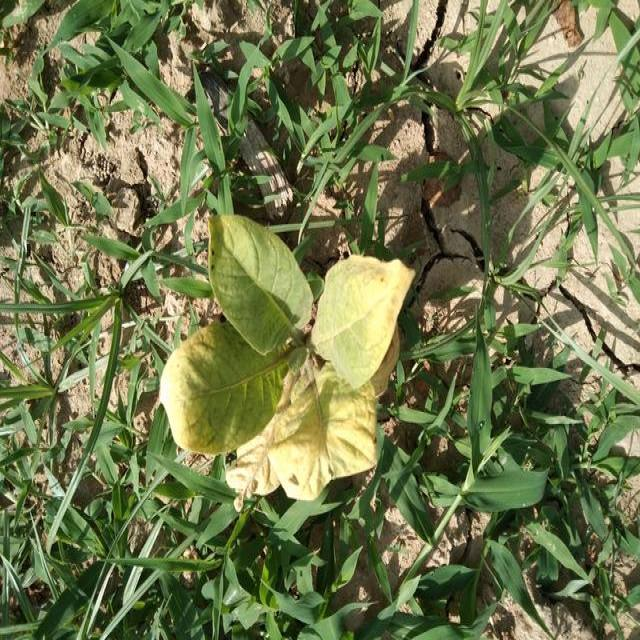crop: (156, 197, 418, 509)
